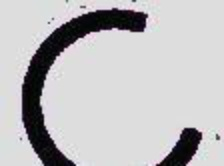ProgressBar: (1, 1, 223, 165)
